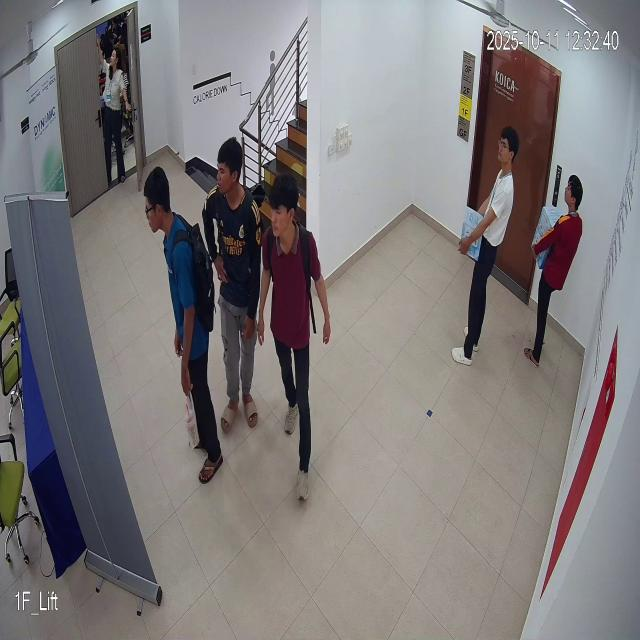face: (215, 133, 247, 202), (269, 170, 297, 239), (496, 123, 521, 175)
